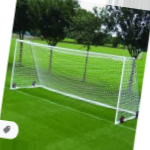goals: (10, 39, 138, 124)
